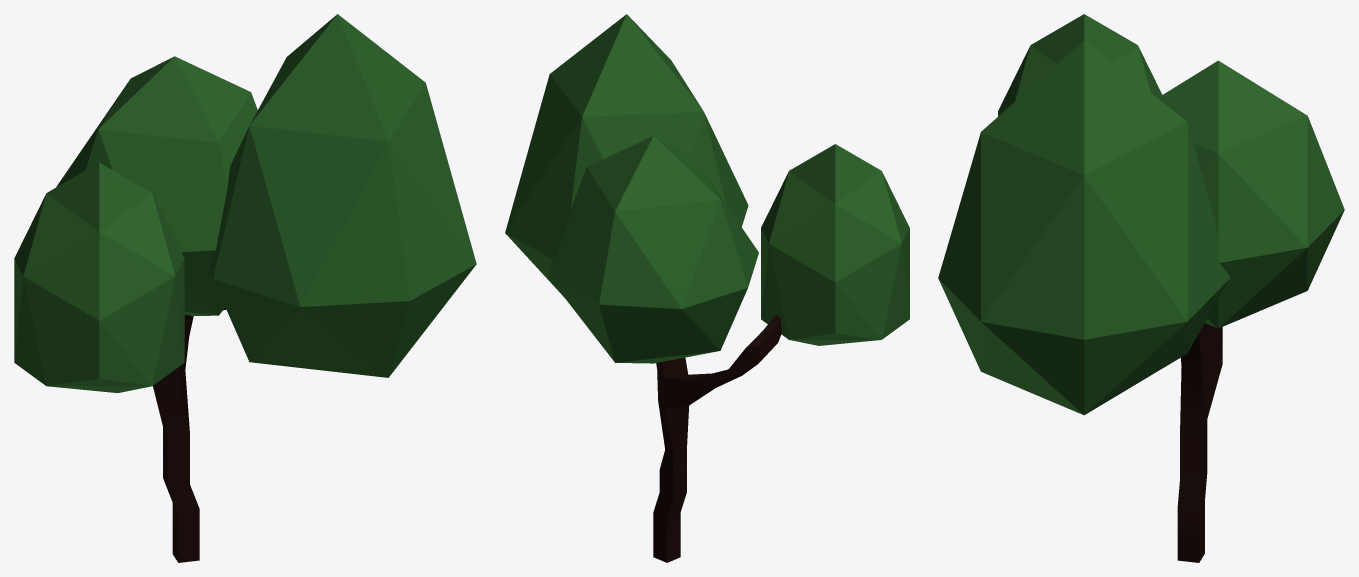
File: Tree03.FBX
3 renders of one model, left to right at view 1: azimuth 30°, elevation 25°; view 2: azimuth 150°, elevation 25°; view 3: azimuth 270°, elevation 25°, orthographic. The views are drawn at different scales.
Visible parts, largest first — view 1: Tree 03; view 2: Tree 03; view 3: Tree 03.
Part boxes in pixels (x1=…): Tree 03: x1=14, y1=14, x2=476, y2=562; Tree 03: x1=505, y1=14, x2=909, y2=562; Tree 03: x1=938, y1=14, x2=1344, y2=562.
Size of the model in its own units: 131 by 159 by 104.
